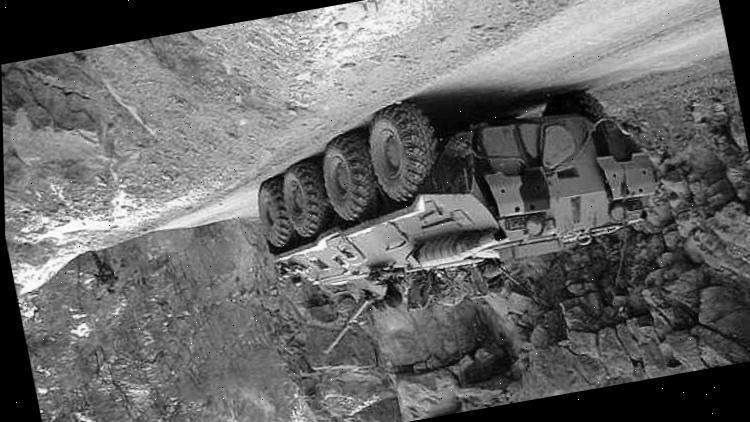person: (86, 244, 120, 296)
tank: (235, 54, 674, 322)
